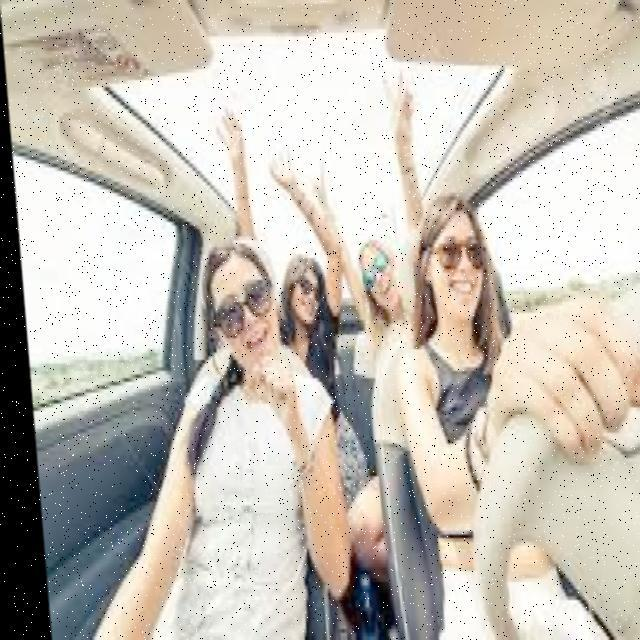noSeatbelt: (141, 333, 329, 640)
